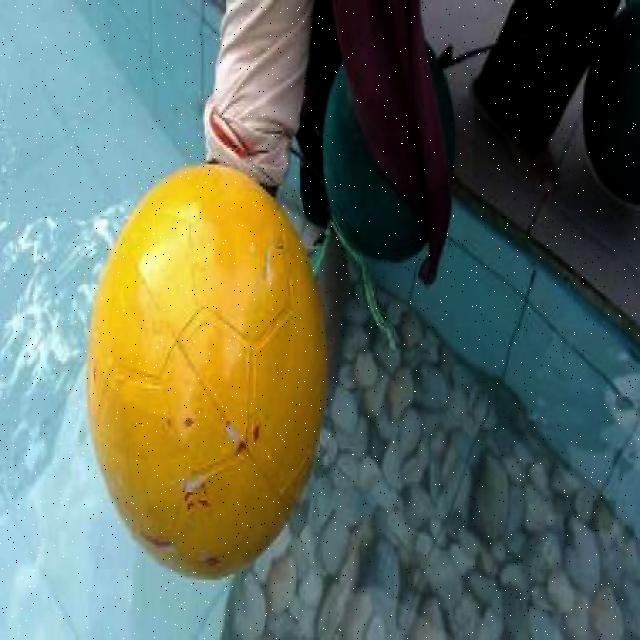buoy: (87, 164, 326, 580)
